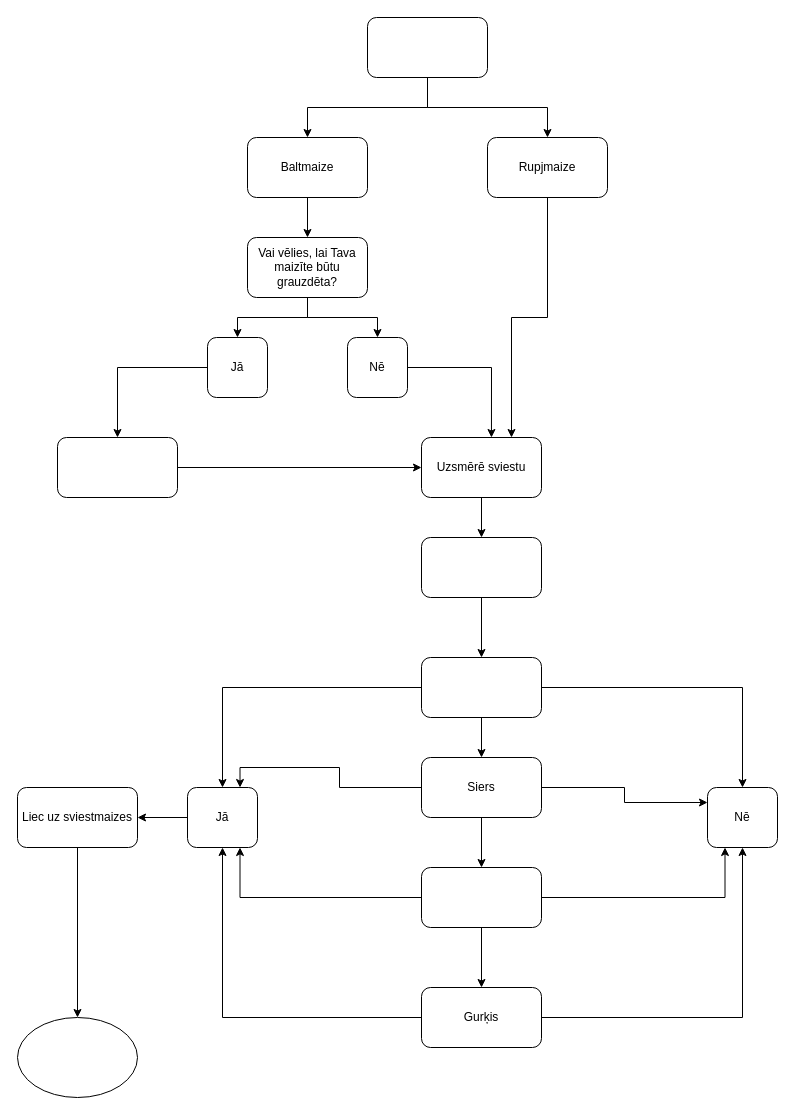
Image size: 795x1115. Some labels were removed from this diagram. The centre of each missing label's shape, as x and y in pixels:
"Desa" goes at pixel 481 687.
"Gatavs. Izbaudi savu sviestmaizi!" goes at pixel 77 1057.
"Grauzdē" goes at pixel 117 467.
"Izvēlies, ko liksi uz sviestmaizes" goes at pixel 481 567.
"Paņem maizi" goes at pixel 427 47.
"Tomāts" goes at pixel 481 897.
